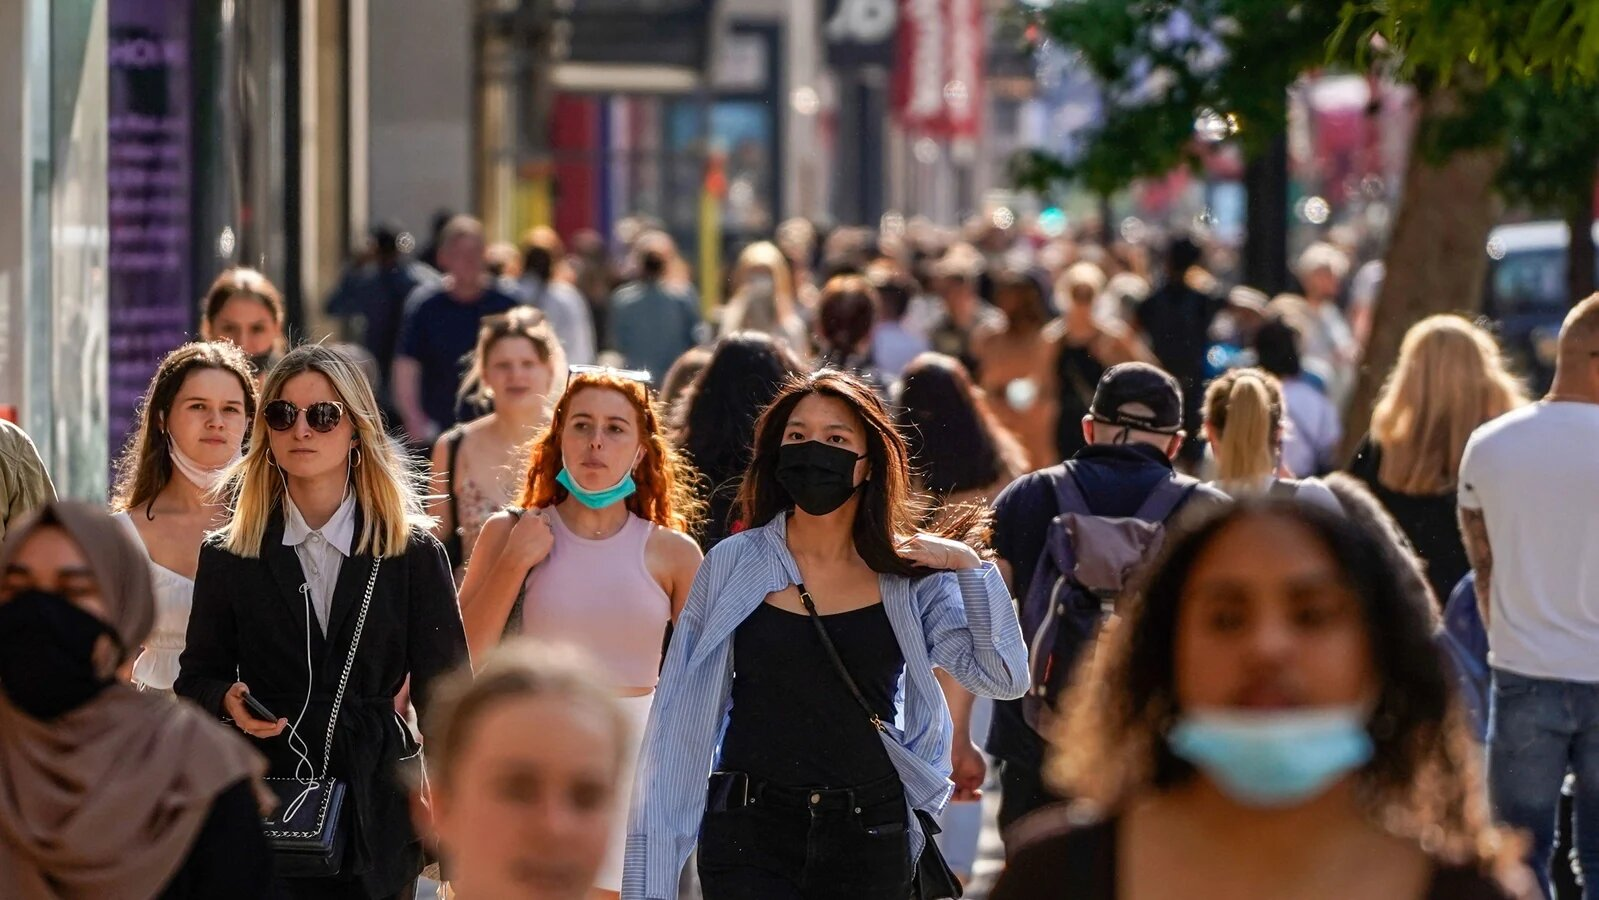with_incorrect_mask: (559, 395, 640, 508), (168, 367, 242, 489)
with_mask: (774, 404, 859, 520)
without_mask: (266, 376, 345, 474)
